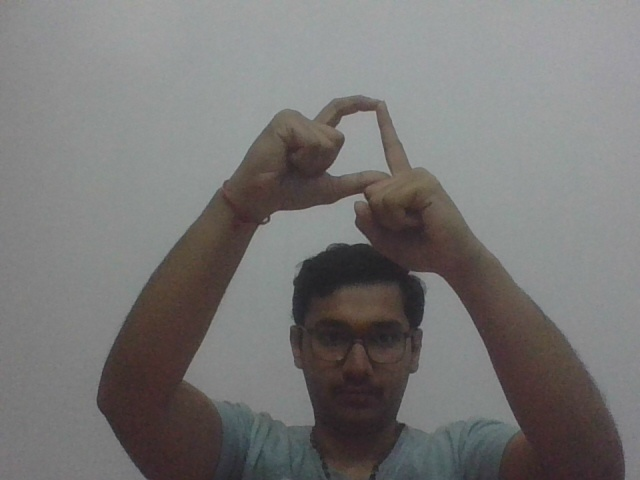D: (240, 94, 463, 270)
